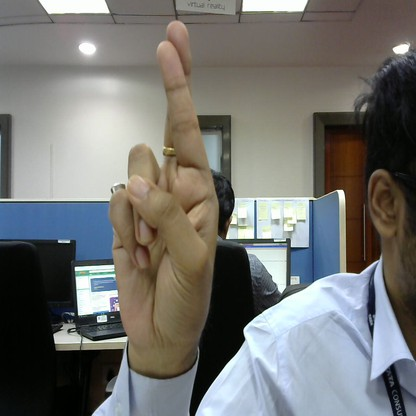r: (105, 17, 228, 358)
